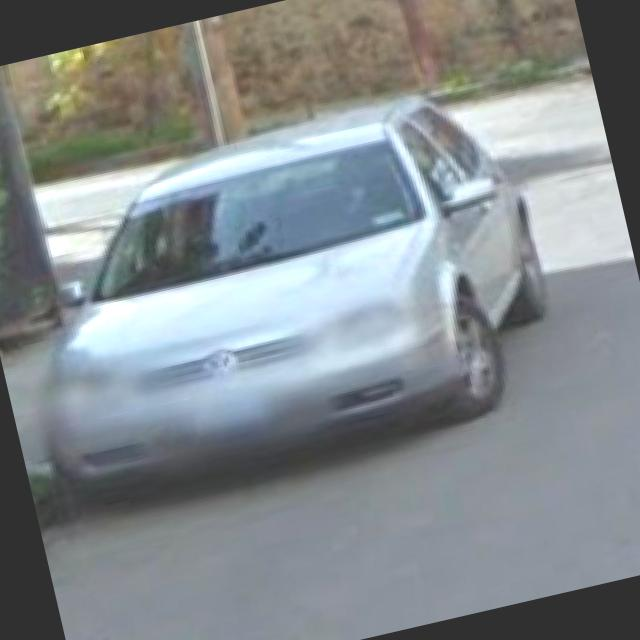car: (3, 66, 571, 509)
